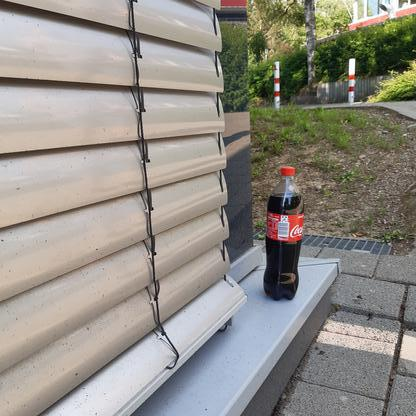coca-cola: (262, 165, 306, 302)
